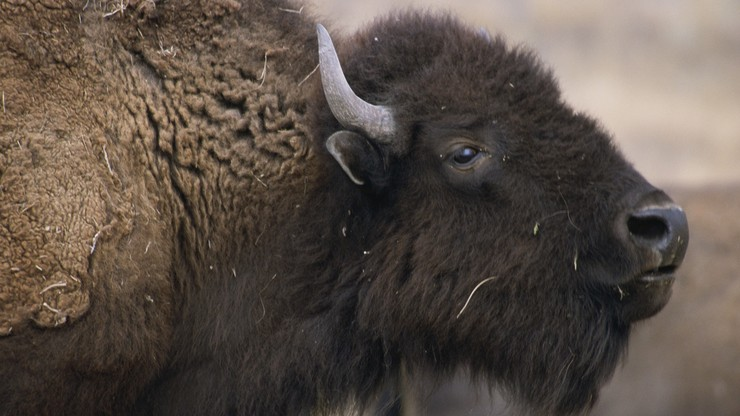zubr: (12, 1, 733, 402)
